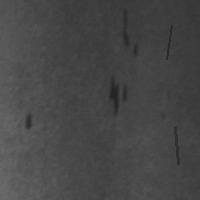inclusion: (118, 6, 140, 60), (106, 73, 129, 118), (164, 23, 173, 61), (22, 107, 34, 133), (173, 125, 180, 166)
